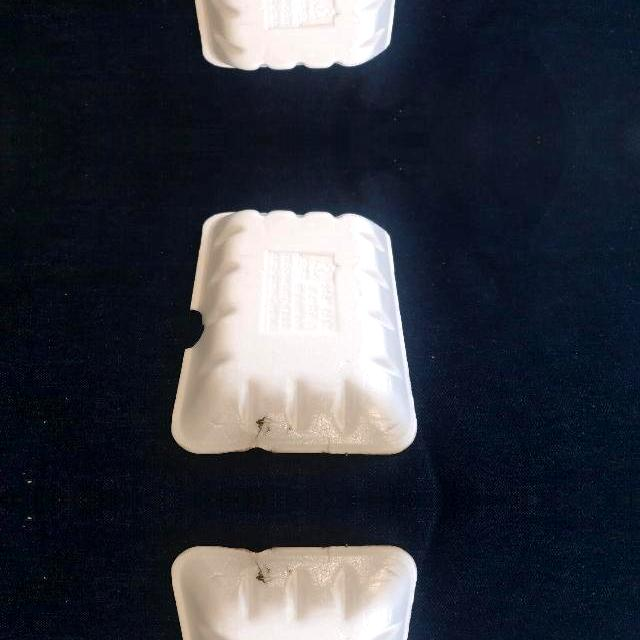Styrofoam: (170, 208, 416, 454), (172, 209, 417, 454), (170, 546, 416, 640), (172, 546, 417, 640), (170, 0, 416, 72), (194, 0, 395, 71)
